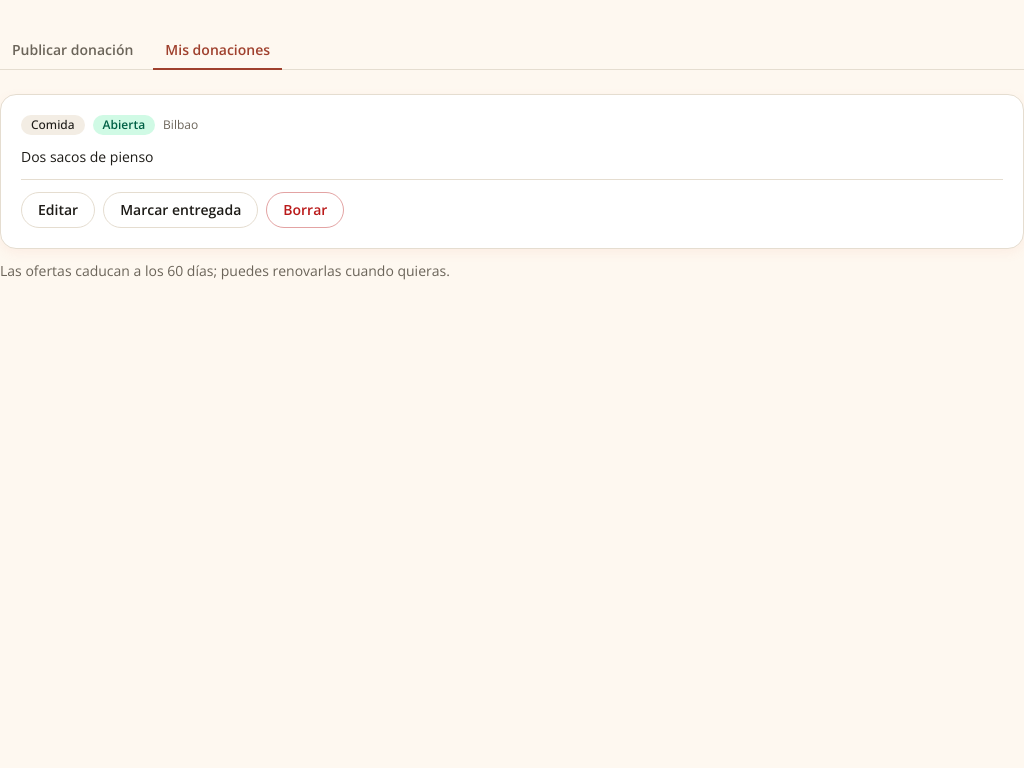
it: MisDonacionesCliente › editar una oferta reutiliza el único formulario (sin duplicarlo)
The image size is (1024, 768).
Step 1. Click the button "Editar" → (58, 210), box [21,192,95,228]
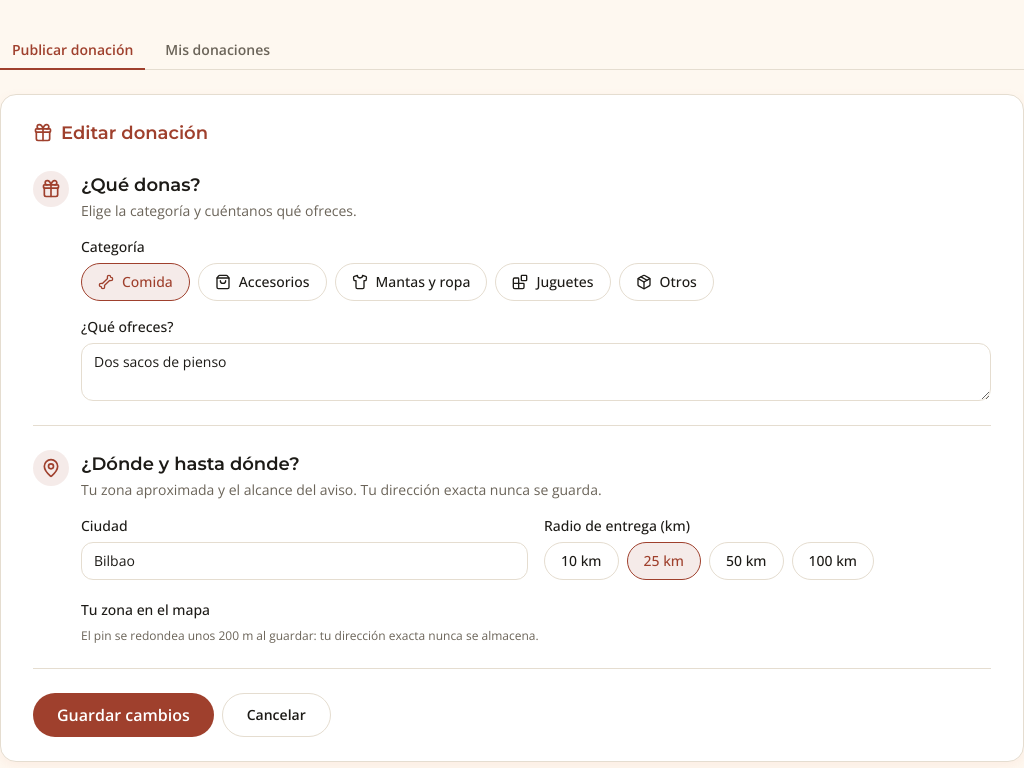
Expected: the button "Guardar cambios" is shown, [33,693,214,737]
Expected: the number of text boxes labelled "¿Qué ofreces?" is 1, [81,343,991,401]
Expected: the text box labelled "¿Qué ofreces?" holds "Dos sacos de pienso", [81,343,991,401]
